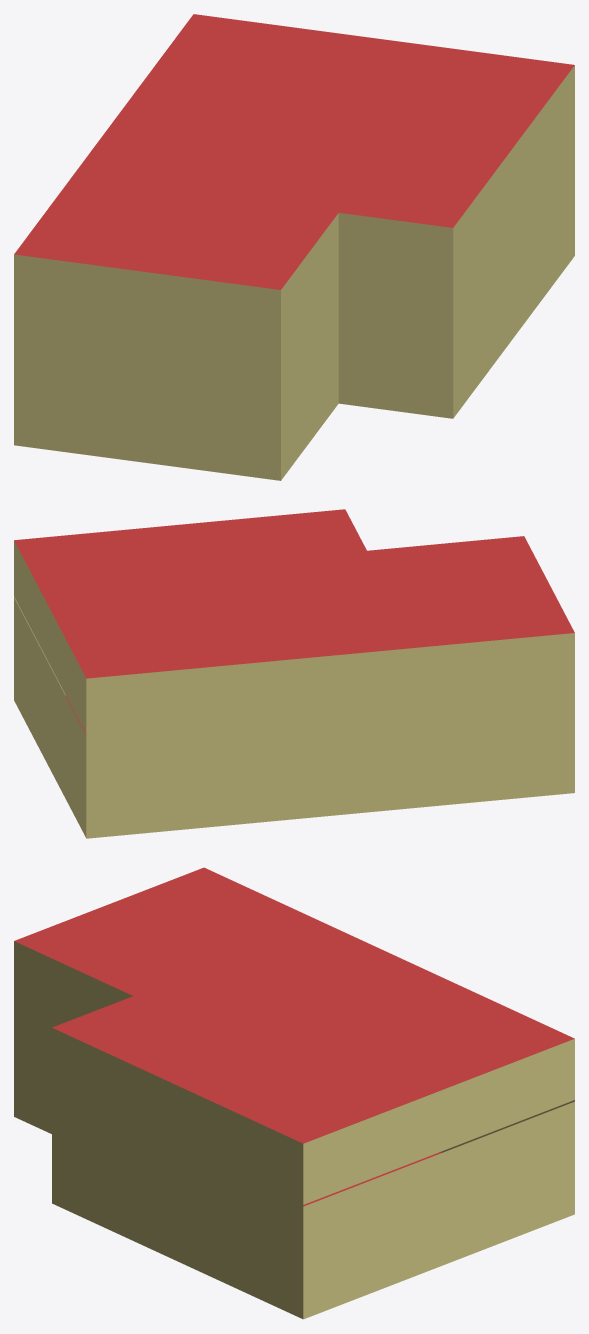
3 views of the same model, one above another, from view 1: azimuth 30°, elevation 25°; view 2: azimuth 150°, elevation 25°; view 3: azimuth 270°, elevation 25° (orthographic). The views are drawn at different scales.
Bounding box in the file's own units: 35.35 × 30.33 × 10.48.
